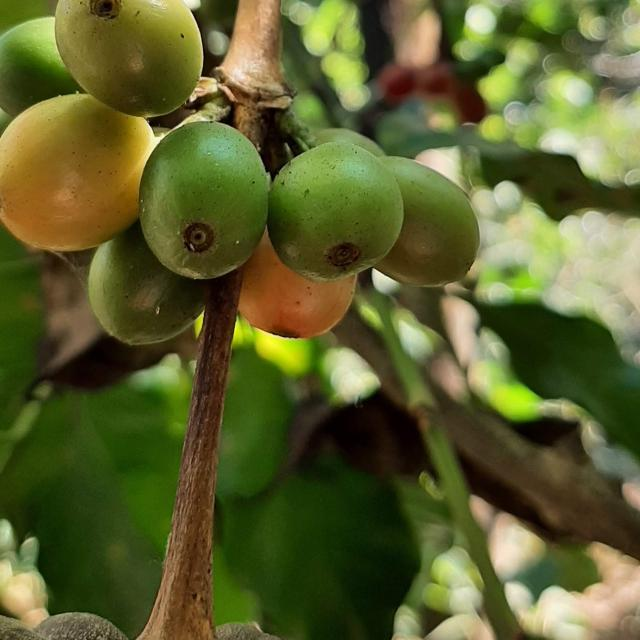green: (138, 121, 270, 279), (268, 142, 404, 282), (87, 222, 206, 345), (375, 156, 480, 287), (0, 16, 80, 116)
yellow: (0, 93, 155, 251), (54, 0, 203, 117), (238, 230, 357, 338)
